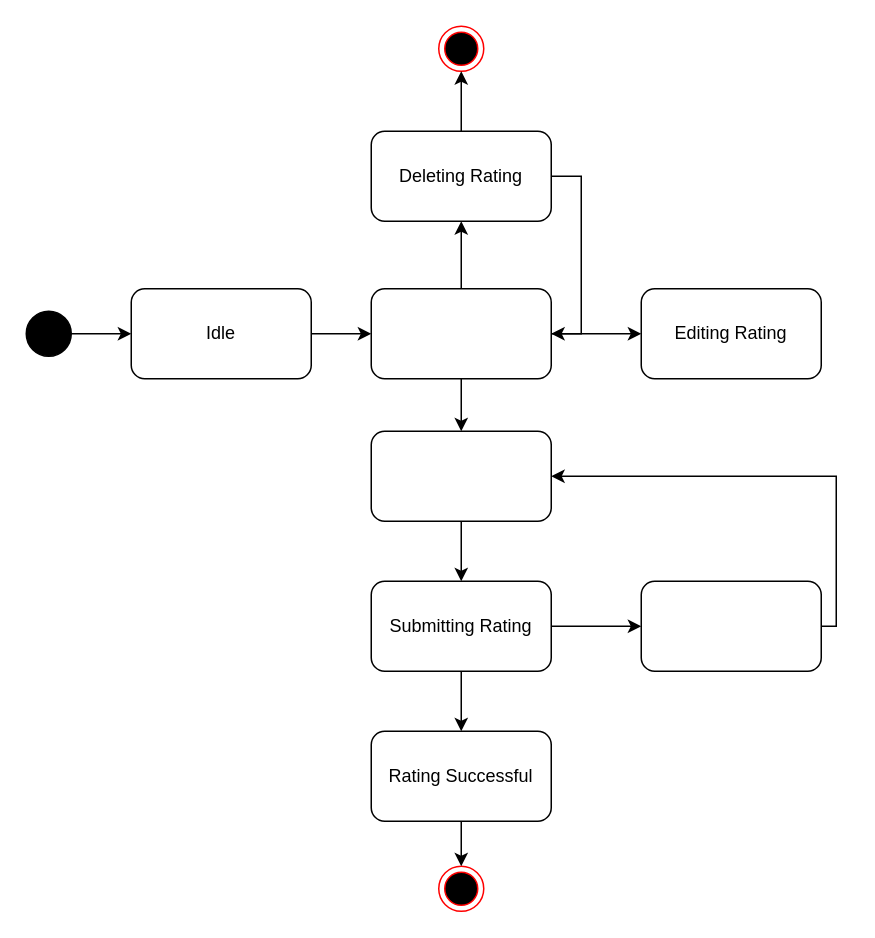
Image size: 875x938. Some labels were removed from this diagram. The centre of each missing label's shape, as x and y in pixels:
Adding Rating: (460,475)
Rating Failed: (730,625)
Viewing Book: (460,333)
